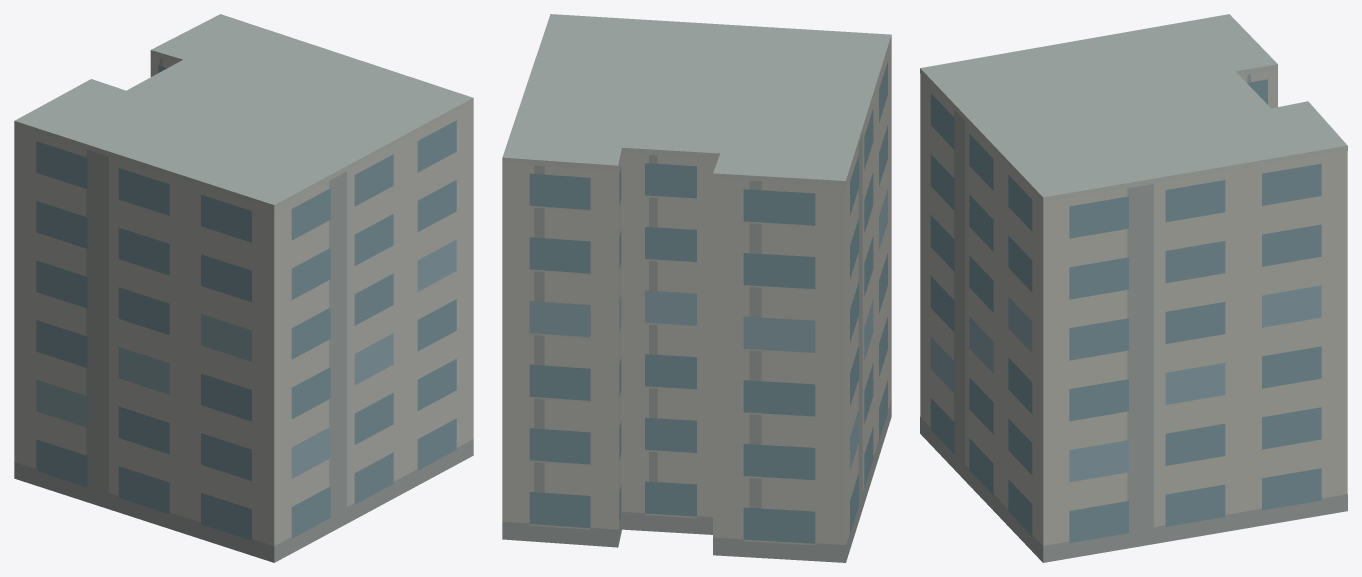
Rendered from survey-upis-33018845.glb.
3 renders of one model, left to right at view 1: azimuth 30°, elevation 25°; view 2: azimuth 150°, elevation 25°; view 3: azimuth 270°, elevation 25°, orthographic. The views are drawn at different scales.
Parts seen in each view (by area): view 1: survey-upis-33018845.tmp; view 2: survey-upis-33018845.tmp; view 3: survey-upis-33018845.tmp.
Part boxes in pixels (x1,y1,x2,y2): survey-upis-33018845.tmp: (14, 14, 473, 562); survey-upis-33018845.tmp: (502, 14, 891, 562); survey-upis-33018845.tmp: (920, 14, 1347, 562).
Size of the model in its own units: 18.09 by 16.8 by 17.83.
